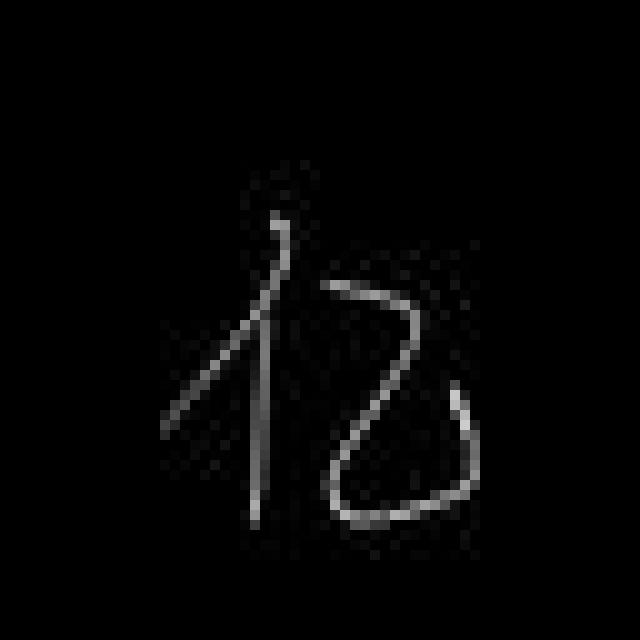100000 -a hundred thousand-: (147, 208, 493, 554)
